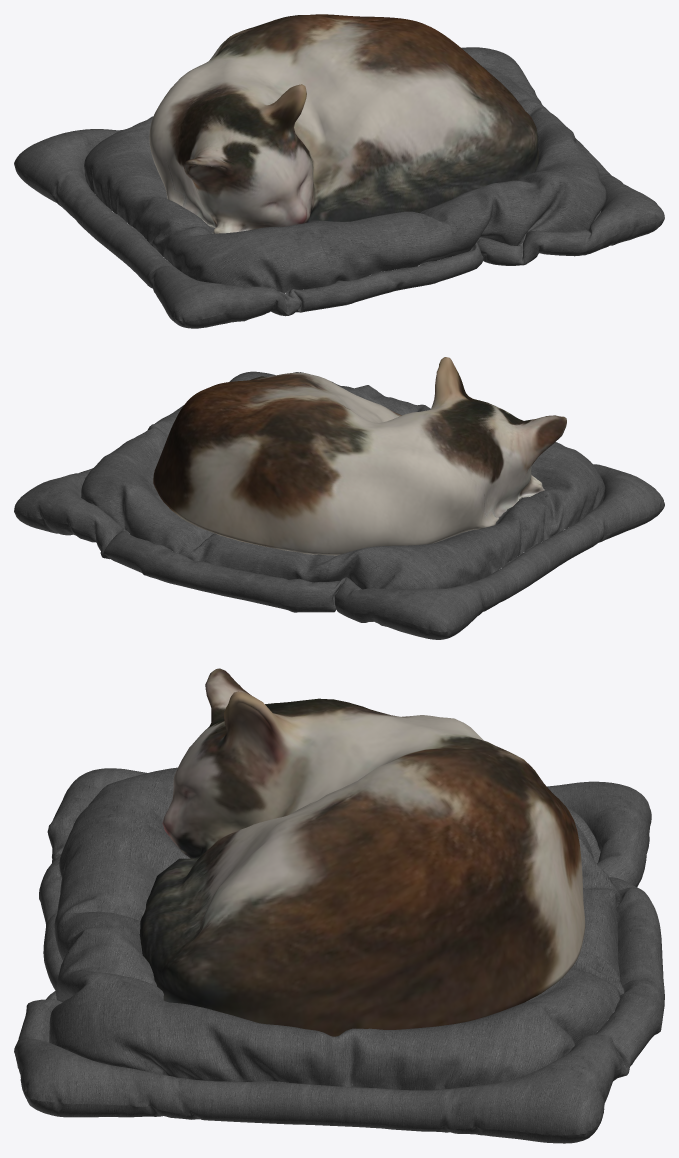
The model's file is cat.glb.
3 renders of one model, top to bottom at view 1: azimuth 30°, elevation 25°; view 2: azimuth 150°, elevation 25°; view 3: azimuth 270°, elevation 25°, orthographic. The views are drawn at different scales.
Visible parts, largest first — view 1: cat0_cat_0, cushion_cushion_0; view 2: cat0_cat_0, cushion_cushion_0; view 3: cat0_cat_0, cushion_cushion_0.
Part boxes in pixels (x1,y1,x2,y2): cat0_cat_0: (149, 14, 538, 233); cushion_cushion_0: (14, 47, 664, 328); cat0_cat_0: (153, 357, 566, 555); cushion_cushion_0: (14, 371, 664, 639); cat0_cat_0: (139, 668, 585, 1036); cushion_cushion_0: (14, 767, 664, 1143).
Bounding box in the file's own units: 0.5633 × 0.175 × 0.4442.
Materials: 2 (2 with a texture image).
